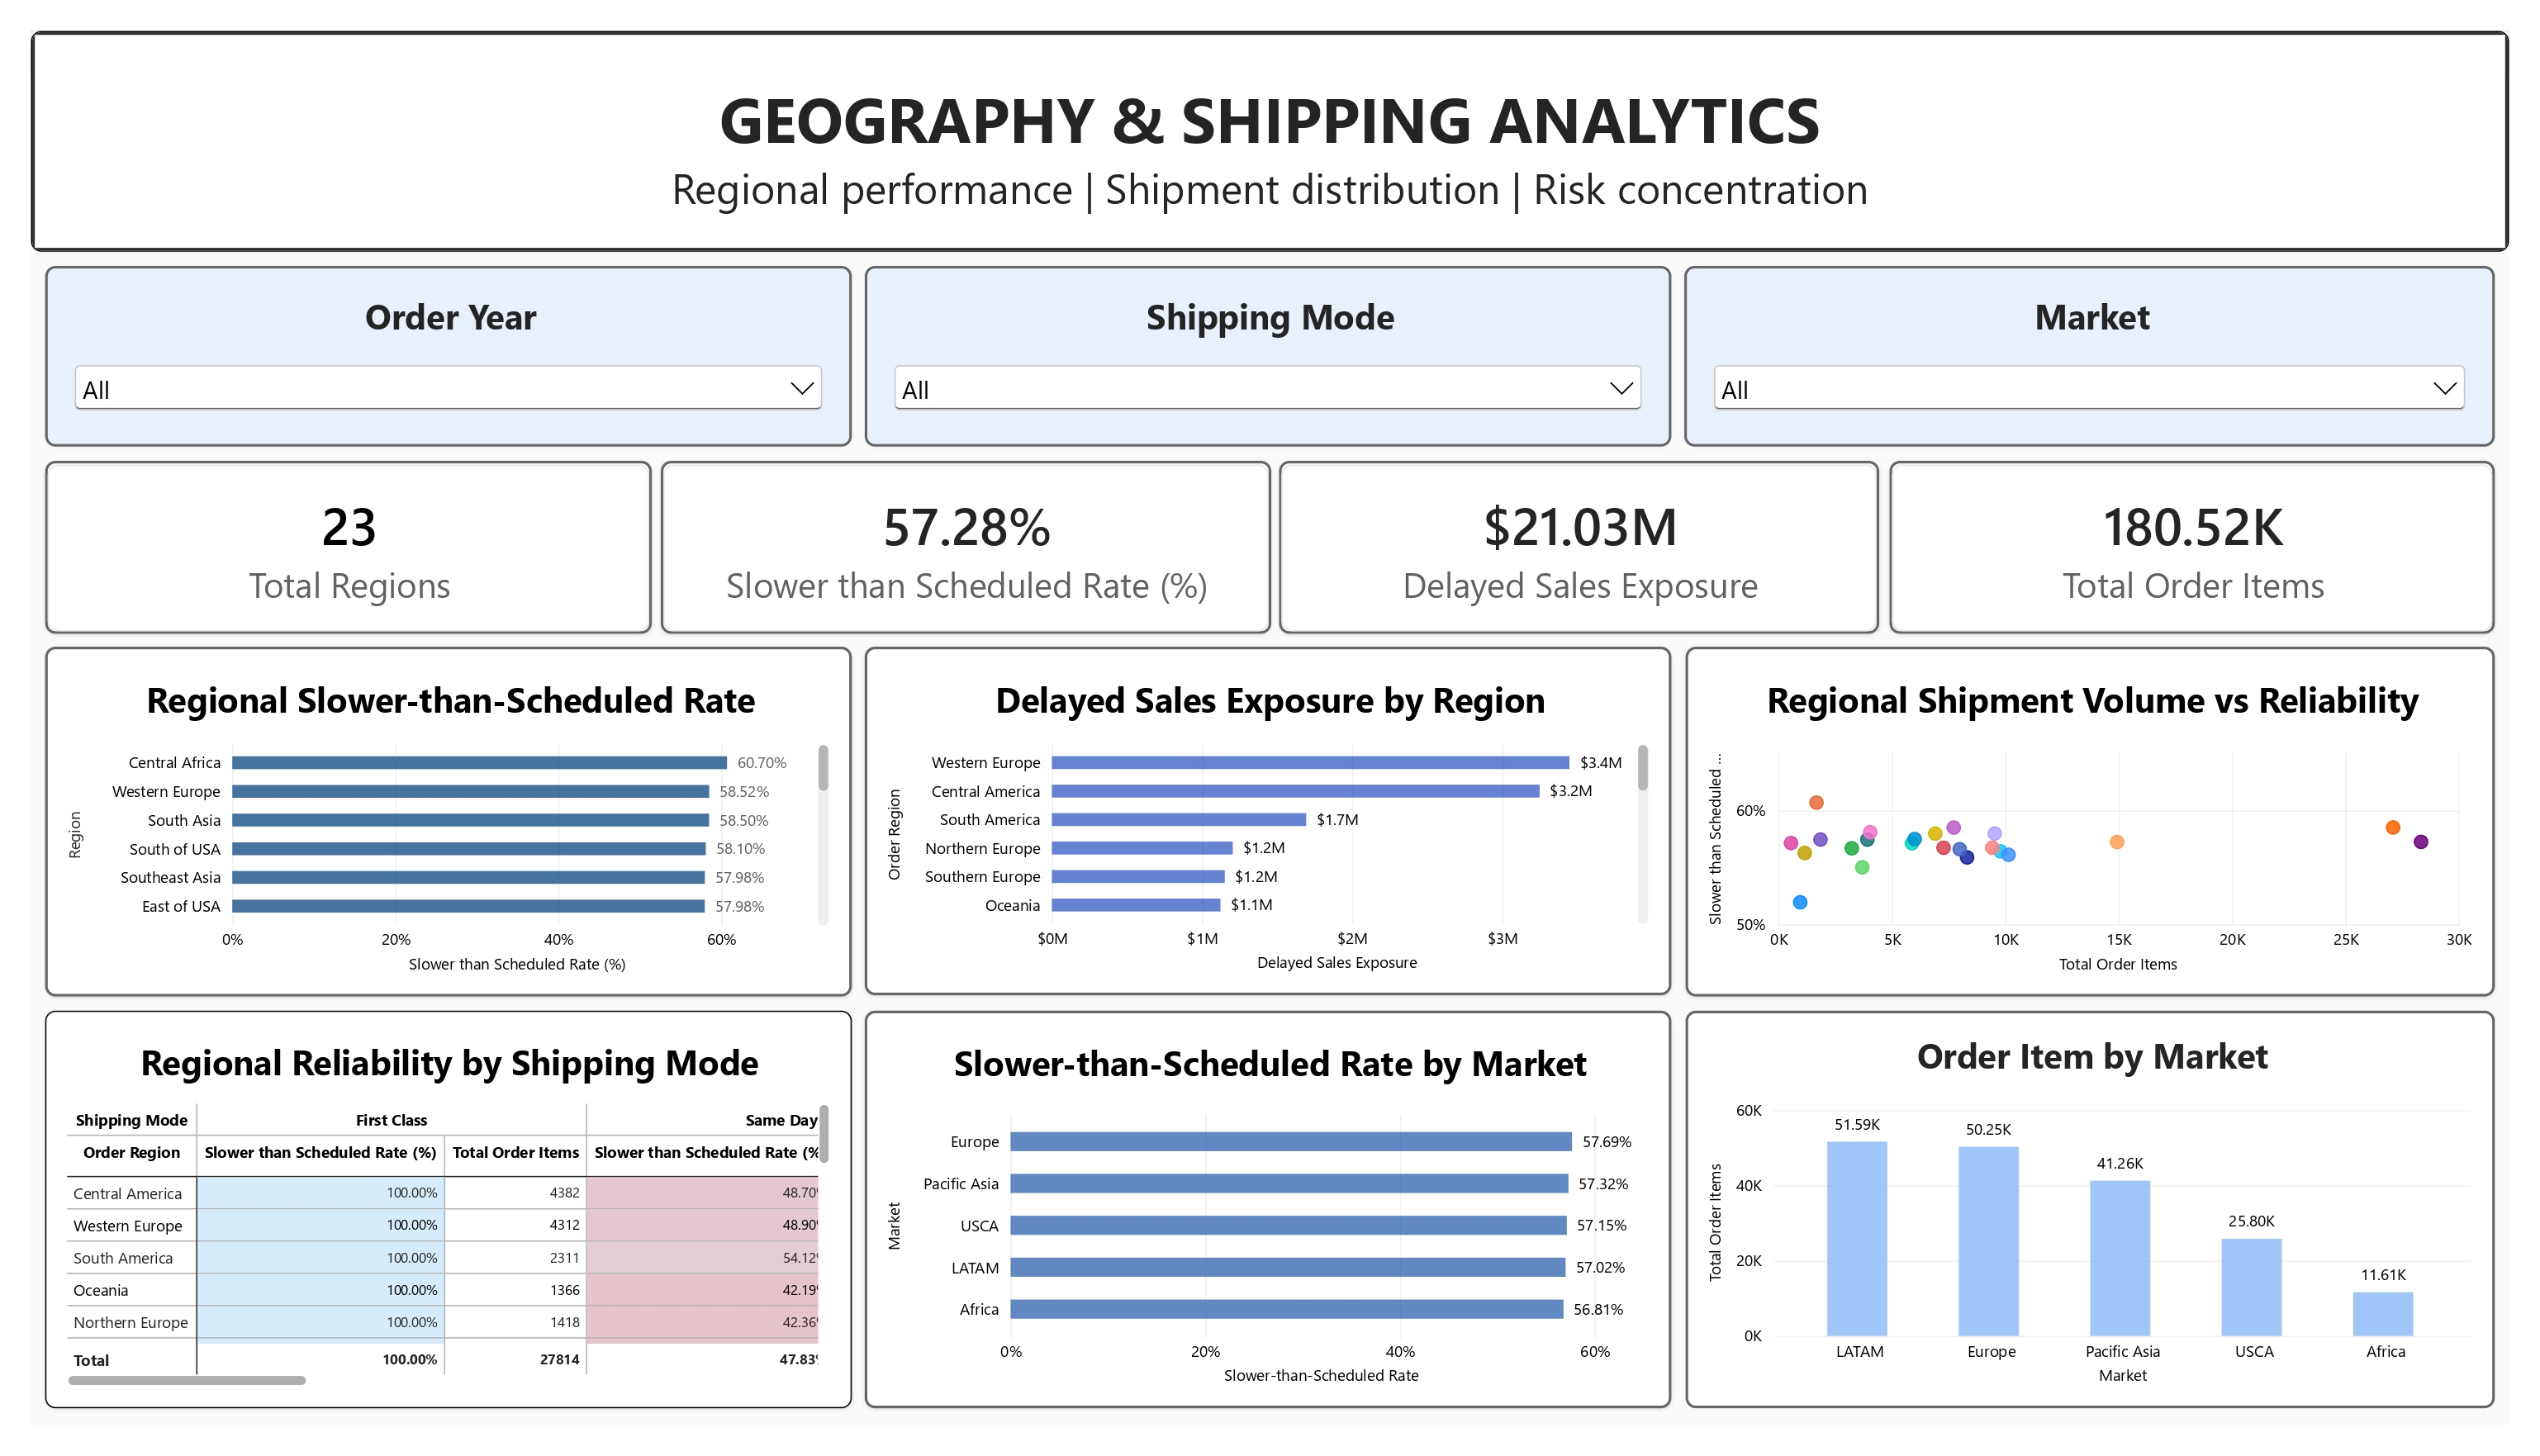

Layout of this report page (visuals, bound fields, positions):
{"tool":"powerbi","page":{"name":"Geography & Shipping ","canvas":[1920,1080],"ordinal":2},"visuals":[{"type":"shape","box":[0,0,1920,171.2],"z":0},{"type":"textbox","box":[18.8,34.9,1882.5,112.6],"z":1},{"type":"slicer","title":"Order Year ","fields":{"Values":["cleaned_SupplyChainDataset.Order Year"]},"box":[10.7,182.3,624.8,139.4],"z":2},{"type":"slicer","title":"Market ","fields":{"Values":["cleaned_SupplyChainDataset.Market"]},"box":[1281,182,628,140],"z":3},{"type":"slicer","title":"Shipping Mode ","fields":{"Values":["cleaned_SupplyChainDataset.Shipping Mode"]},"box":[646.3,182.3,624.8,139.4],"z":4},{"type":"cardVisual","fields":{"Data":["_Measures.Total Regions"]},"box":[10.7,332.5,470,134.1],"z":5},{"type":"cardVisual","fields":{"Data":["_Measures.Total Order Items"]},"box":[1440,332.5,469.3,134.1],"z":6},{"type":"cardVisual","fields":{"Data":["_Measures.Delayed Sales Exposure"]},"box":[967,332.5,465,134.1],"z":7},{"type":"cardVisual","fields":{"Data":["_Measures.Slower than Scheduled Rate (%)"]},"box":[488,332.5,473,134.1],"z":8},{"type":"clusteredBarChart","title":"Regional Slower-than-Scheduled Rate ","fields":{"Category":["cleaned_SupplyChainDataset.Order Region"],"Y":["_Measures.Slower than Scheduled Rate (%)"]},"box":[10.7,477.3,624.8,270.8],"z":9},{"type":"clusteredBarChart","title":"Delayed Sales Exposure by Region ","fields":{"Category":["cleaned_SupplyChainDataset.Order Region"],"Y":["_Measures.Delayed Sales Exposure"]},"box":[646.3,477.3,625,270],"z":10},{"type":"scatterChart","title":"Regional Shipment Volume vs Reliability ","fields":{"Series":["cleaned_SupplyChainDataset.Order Region"],"X":["_Measures.Total Order Items"],"Y":["_Measures.Slower than Scheduled Rate (%)"]},"box":[1281.8,477.3,627,270.8],"z":11},{"type":"pivotTable","title":"Regional Reliability by Shipping Mode ","fields":{"Columns":["cleaned_SupplyChainDataset.Shipping Mode"],"Rows":["cleaned_SupplyChainDataset.Order Region"],"Values":["_Measures.Slower than Scheduled Rate (%)","_Measures.Total Order Items"]},"box":[10.7,758.9,624.8,308],"z":12},{"type":"clusteredBarChart","title":"Slower-than-Scheduled Rate by Market ","fields":{"Category":["cleaned_SupplyChainDataset.Market"],"Y":["_Measures.Slower than Scheduled Rate (%)"]},"box":[646,759,625,308],"z":13},{"type":"clusteredColumnChart","title":"Order Item by Market ","fields":{"Category":["cleaned_SupplyChainDataset.Market"],"Y":["_Measures.Total Order Items"]},"box":[1282,759,627,308],"z":14}]}

Visuals, with their boxes on the page's 1920x1080 design canvas (x1, y1, x2, y2). These are canvas units, not pixel positions in the 2540x1456 screenshot, which may show the page scaled, cropped or inside an application window:
shape: detection(0, 0, 1920, 171)
textbox: detection(19, 35, 1901, 148)
"Order Year " slicer: detection(11, 182, 636, 322)
"Market " slicer: detection(1281, 182, 1909, 322)
"Shipping Mode " slicer: detection(646, 182, 1271, 322)
cardVisual - _Measures.Total Regions: detection(11, 332, 481, 467)
cardVisual - _Measures.Total Order Items: detection(1440, 332, 1909, 467)
cardVisual - _Measures.Delayed Sales Exposure: detection(967, 332, 1432, 467)
cardVisual - _Measures.Slower than Scheduled Rate (%): detection(488, 332, 961, 467)
"Regional Slower-than-Scheduled Rate " clusteredBarChart: detection(11, 477, 636, 748)
"Delayed Sales Exposure by Region " clusteredBarChart: detection(646, 477, 1271, 747)
"Regional Shipment Volume vs Reliability " scatterChart: detection(1282, 477, 1909, 748)
"Regional Reliability by Shipping Mode " pivotTable: detection(11, 759, 636, 1067)
"Slower-than-Scheduled Rate by Market " clusteredBarChart: detection(646, 759, 1271, 1067)
"Order Item by Market " clusteredColumnChart: detection(1282, 759, 1909, 1067)
